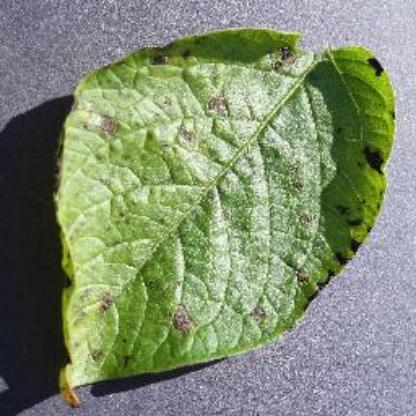Early-Blight: (44, 27, 400, 401)
